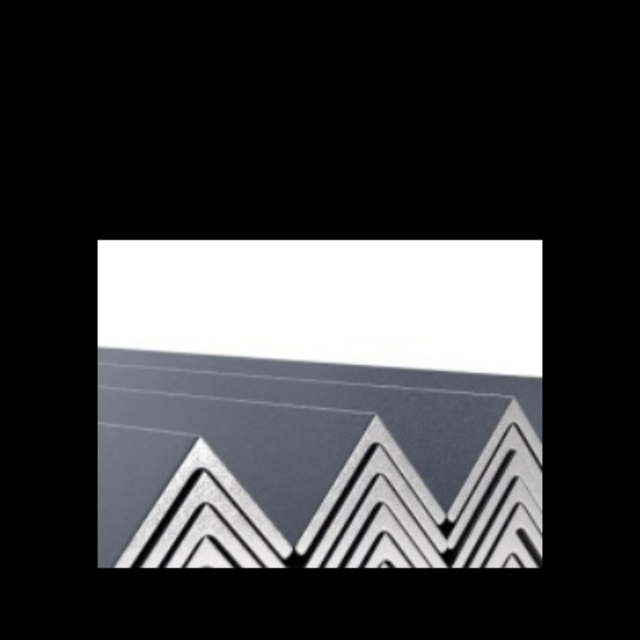Angle: (107, 452, 284, 568), (303, 431, 441, 546), (307, 463, 442, 568), (113, 488, 287, 568), (308, 493, 441, 568), (453, 414, 542, 513), (452, 442, 542, 538), (117, 520, 289, 568), (456, 469, 542, 564), (312, 519, 446, 568), (459, 492, 542, 568), (461, 515, 542, 568)
